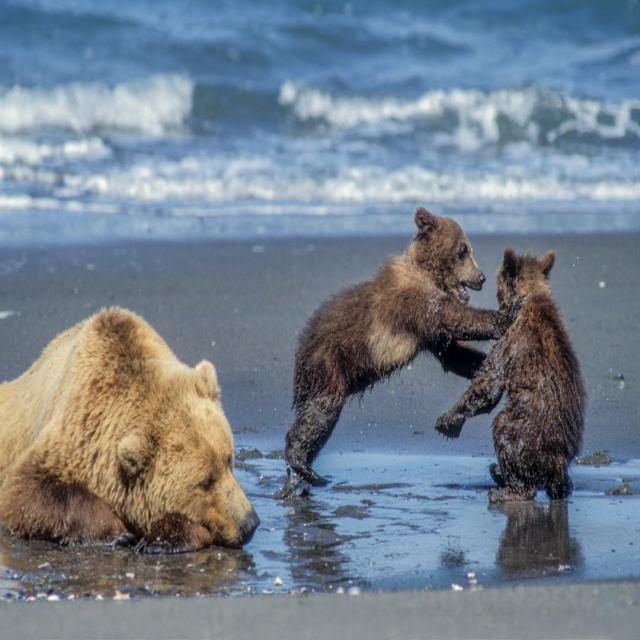Bear: (282, 209, 521, 486), (0, 306, 260, 551), (435, 249, 587, 503)
